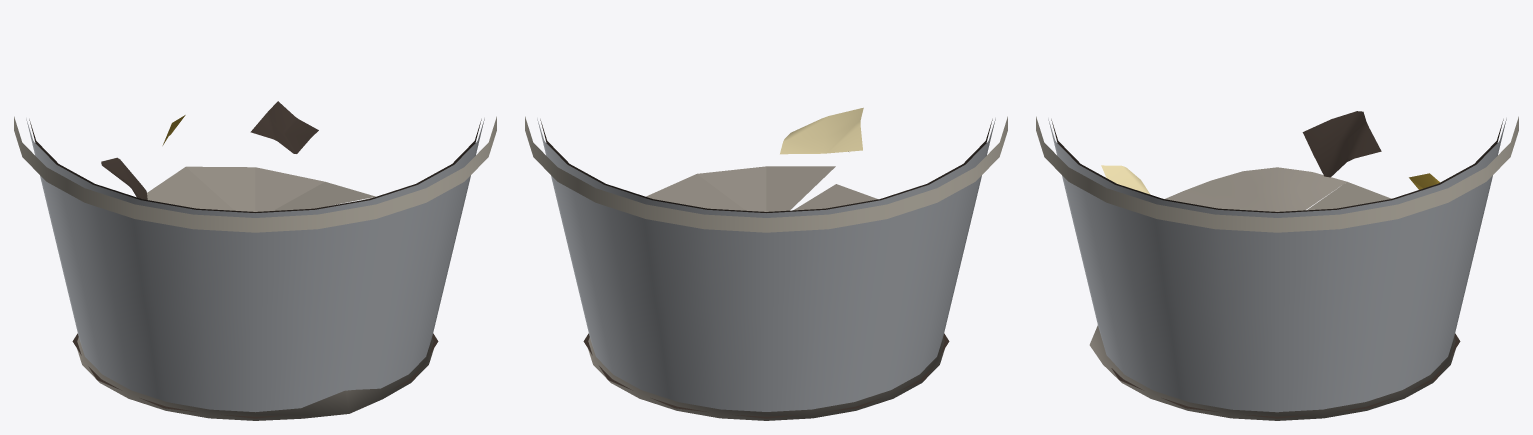
The model's file is SM_BurnBasin_Ash.glb.
3 views of the same model, side by side, from view 1: azimuth 30°, elevation 25°; view 2: azimuth 150°, elevation 25°; view 3: azimuth 270°, elevation 25° (orthographic).
Parts seen in each view (by area): view 1: SM_BurnBasin_Ash; view 2: SM_BurnBasin_Ash; view 3: SM_BurnBasin_Ash.
Part boxes in pixels (x1,y1,x2,y2): SM_BurnBasin_Ash: (14, 101, 496, 420); SM_BurnBasin_Ash: (525, 107, 1007, 420); SM_BurnBasin_Ash: (1036, 111, 1518, 420).
Size of the model in its own units: 0.4777 by 0.25 by 0.4777.
